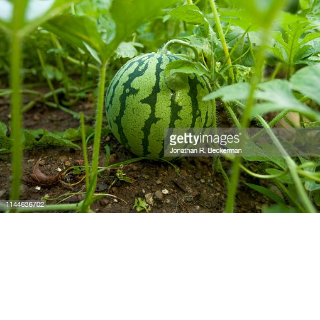dua_hau: (107, 44, 216, 164)
